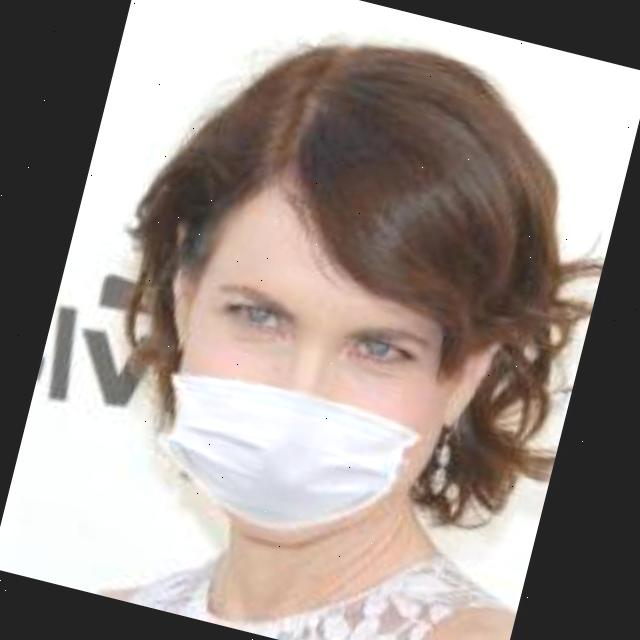suspicion: (116, 62, 530, 566)
